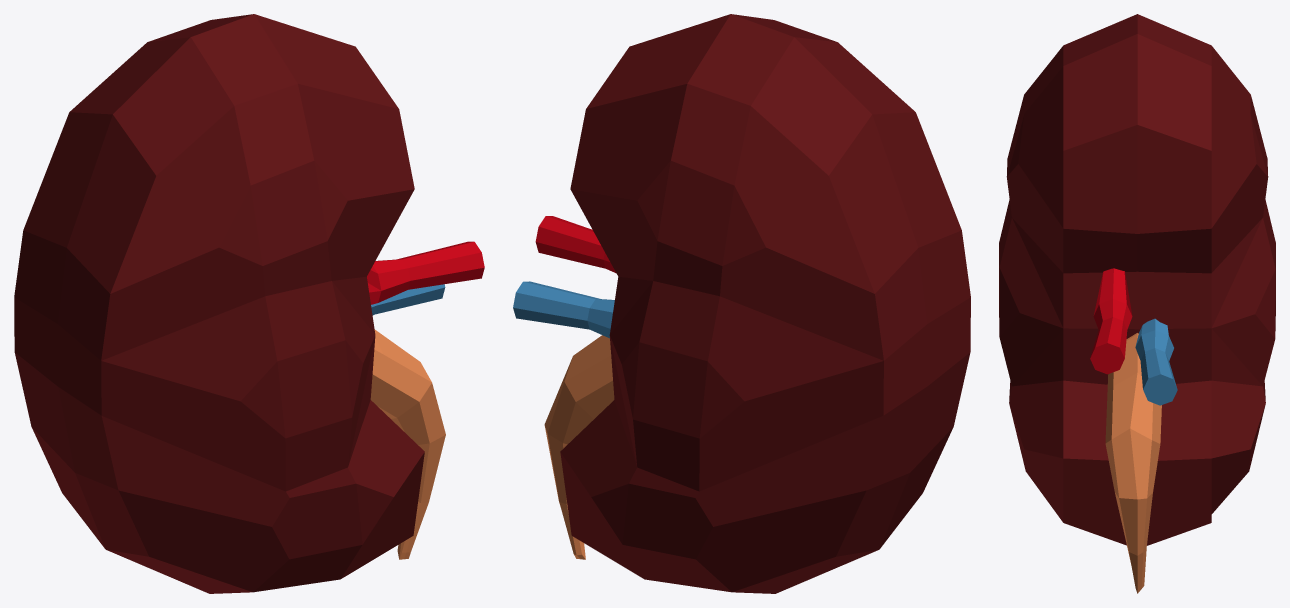
Rendered from Kidney.fbx.
3 views of the same model, side by side, from view 1: azimuth 30°, elevation 25°; view 2: azimuth 150°, elevation 25°; view 3: azimuth 270°, elevation 25° (orthographic). The views are drawn at different scales.
Parts seen in each view (by area): view 1: Cube, Cube.001, Cylinder, Cylinder.001; view 2: Cube, Cube.001, Cylinder.001, Cylinder; view 3: Cube, Cube.001, Cylinder, Cylinder.001.
Part boxes in pixels (x1=…): Cube: x1=14, y1=14, x2=424, y2=593; Cube.001: x1=370, y1=329, x2=445, y2=559; Cylinder: x1=367, y1=241, x2=484, y2=304; Cylinder.001: x1=371, y1=284, x2=445, y2=315; Cube: x1=560, y1=14, x2=970, y2=593; Cube.001: x1=544, y1=335, x2=614, y2=559; Cylinder.001: x1=513, y1=281, x2=614, y2=338; Cylinder: x1=535, y1=216, x2=615, y2=272; Cube: x1=999, y1=14, x2=1275, y2=545; Cube.001: x1=1105, y1=333, x2=1161, y2=593; Cylinder: x1=1090, y1=268, x2=1132, y2=374; Cylinder.001: x1=1135, y1=318, x2=1177, y2=405.
Bounding box in the file's own units: 160 × 223 × 113.
